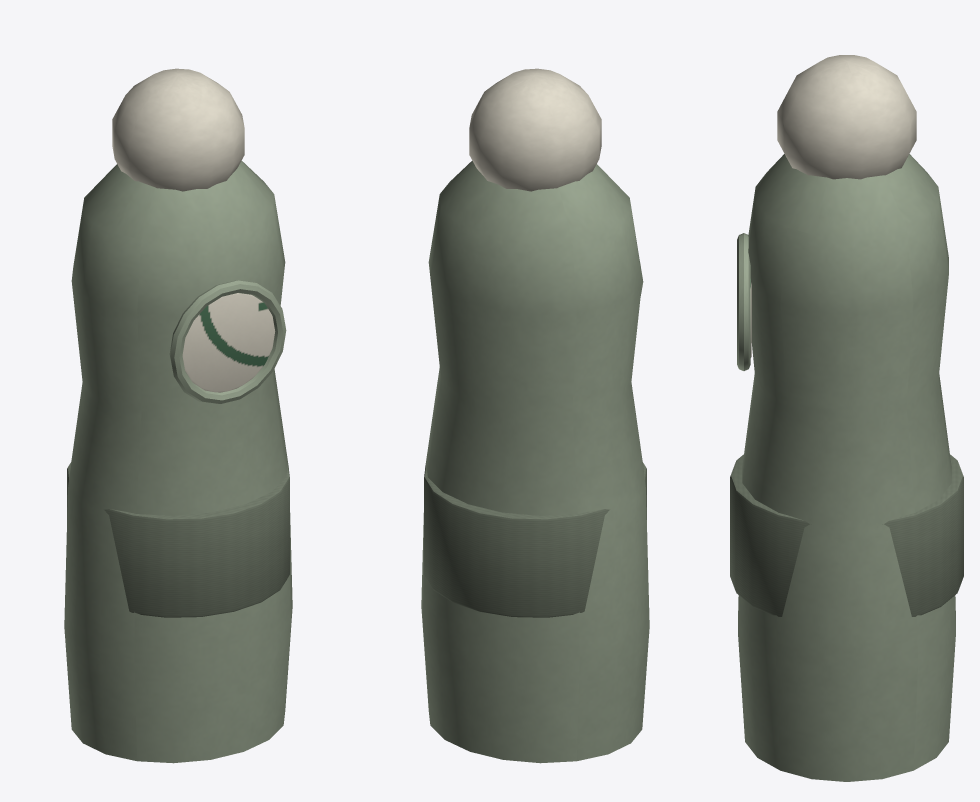
Rendered from pf_headcover_wood.glb.
3 views of the same model, side by side, from view 1: azimuth 30°, elevation 25°; view 2: azimuth 150°, elevation 25°; view 3: azimuth 270°, elevation 25° (orthographic). The views are drawn at different scales.
Parts seen in each view (by area): view 1: pf_headcover_wood_body.001; view 2: pf_headcover_wood_body.001; view 3: pf_headcover_wood_body.001.
Part boxes in pixels (x1,y1,x2,y2): pf_headcover_wood_body.001: [64, 68, 292, 763]; pf_headcover_wood_body.001: [421, 68, 649, 763]; pf_headcover_wood_body.001: [730, 55, 963, 781].
Bounding box in the file's own units: 0.13 × 0.374 × 0.12.
5 materials, 4 textured.
